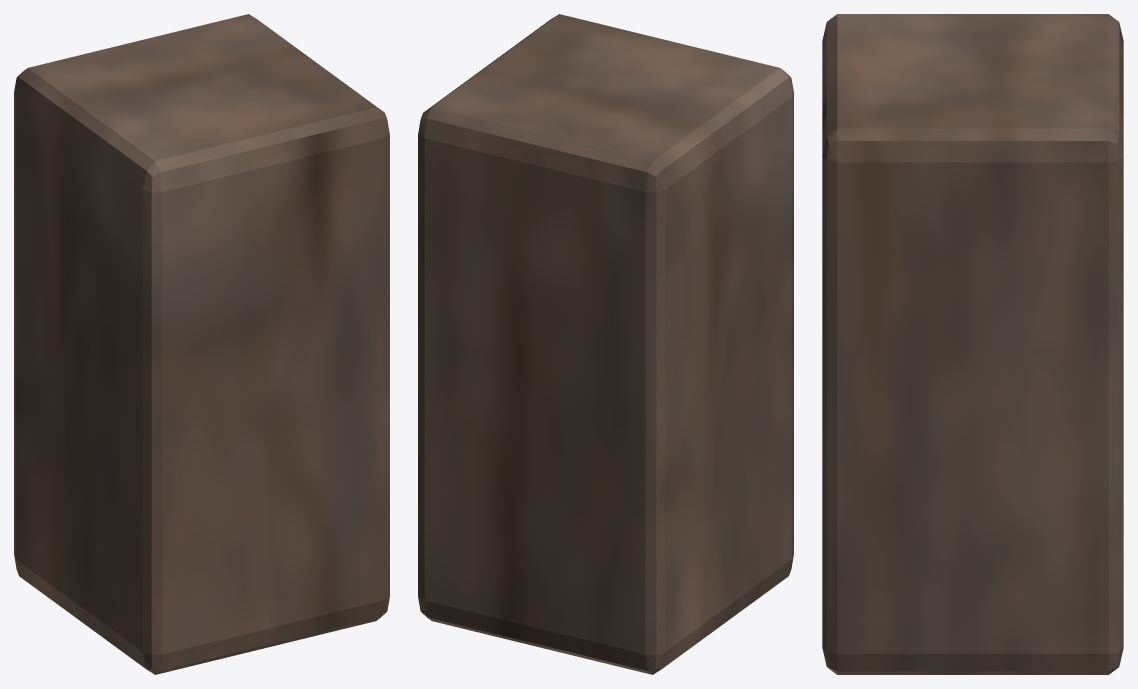
Rendered from wall.obj.
The picture shows the model from 3 angles, left to right: view 1: azimuth 30°, elevation 25°; view 2: azimuth 150°, elevation 25°; view 3: azimuth 270°, elevation 25°; orthographic projection. The views are drawn at different scales.
Visible parts, largest first — view 1: Cube; view 2: Cube; view 3: Cube.
Part boxes in pixels (box(x1,y1,x2,y2)): Cube: box(14, 14, 389, 674); Cube: box(418, 14, 793, 674); Cube: box(822, 14, 1123, 674).
Size of the model in its own units: 1 by 2 by 1.
Materials: 1 (1 with a texture image).
